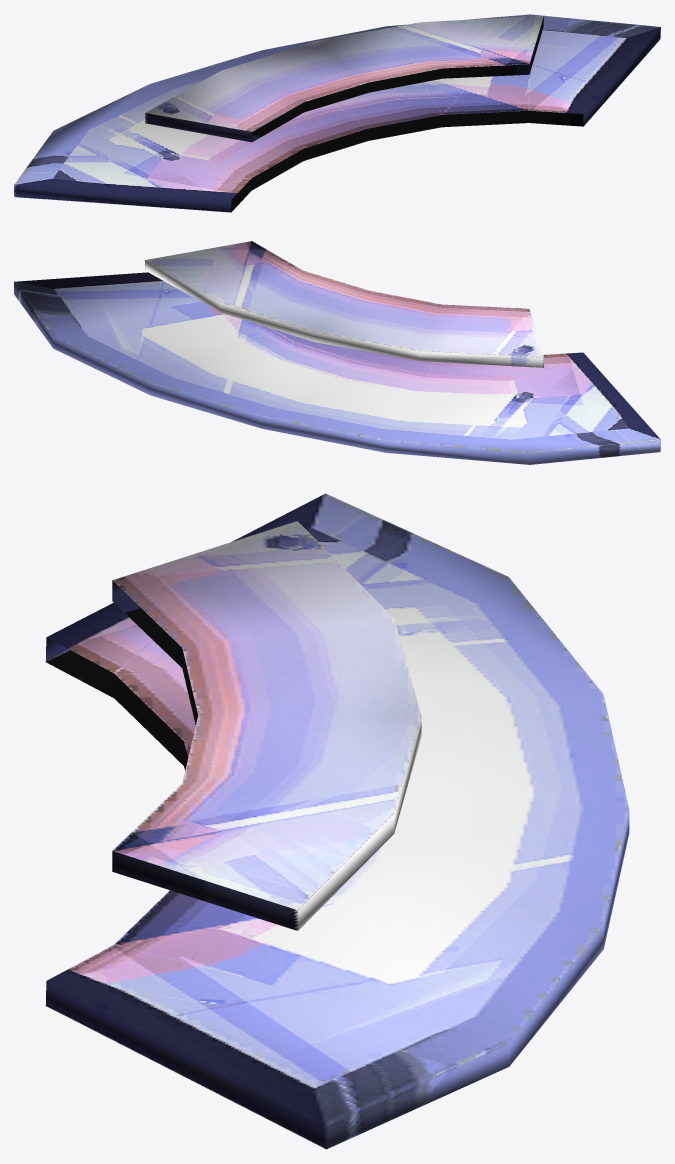
Rendered from vortexap_2.glb.
3 renders of one model, top to bottom at view 1: azimuth 30°, elevation 25°; view 2: azimuth 150°, elevation 25°; view 3: azimuth 270°, elevation 25°, orthographic. The views are drawn at different scales.
Parts seen in each view (by area): view 1: __lithtech_lh_to_gltf_rh__; view 2: __lithtech_lh_to_gltf_rh__; view 3: __lithtech_lh_to_gltf_rh__.
Boxes of the visible parts, left/top/right/bottom form: __lithtech_lh_to_gltf_rh__: left=14, top=14, right=660, bottom=212; __lithtech_lh_to_gltf_rh__: left=14, top=241, right=660, bottom=464; __lithtech_lh_to_gltf_rh__: left=45, top=493, right=629, bottom=1149.
Bounding box in the file's own units: 82.47 × 7.23 × 32.2.
Materials: 1 (1 with a texture image).
